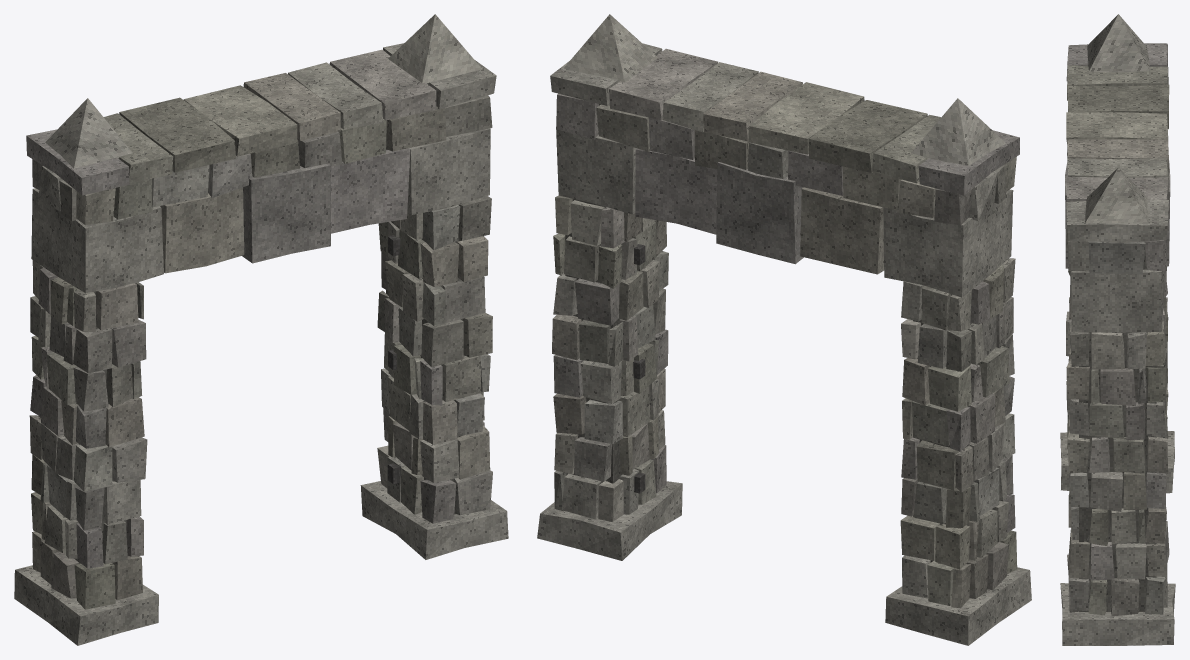
Rendered from portal_pedra.glb.
3 views of the same model, side by side, from view 1: azimuth 30°, elevation 25°; view 2: azimuth 150°, elevation 25°; view 3: azimuth 270°, elevation 25° (orthographic). The views are drawn at different scales.
Visible parts, largest first — view 1: portal_pedra_pedra; view 2: portal_pedra_pedra, portal_pedra_ferro; view 3: portal_pedra_pedra.
Part boxes in pixels (x1,y1,x2,y2): portal_pedra_pedra: [14, 14, 508, 645]; portal_pedra_pedra: [537, 14, 1031, 645]; portal_pedra_ferro: [633, 244, 645, 493]; portal_pedra_pedra: [1060, 14, 1175, 645].
Size of the model in its own units: 6.34 by 7.23 by 1.64.
2 materials, 2 textured.
